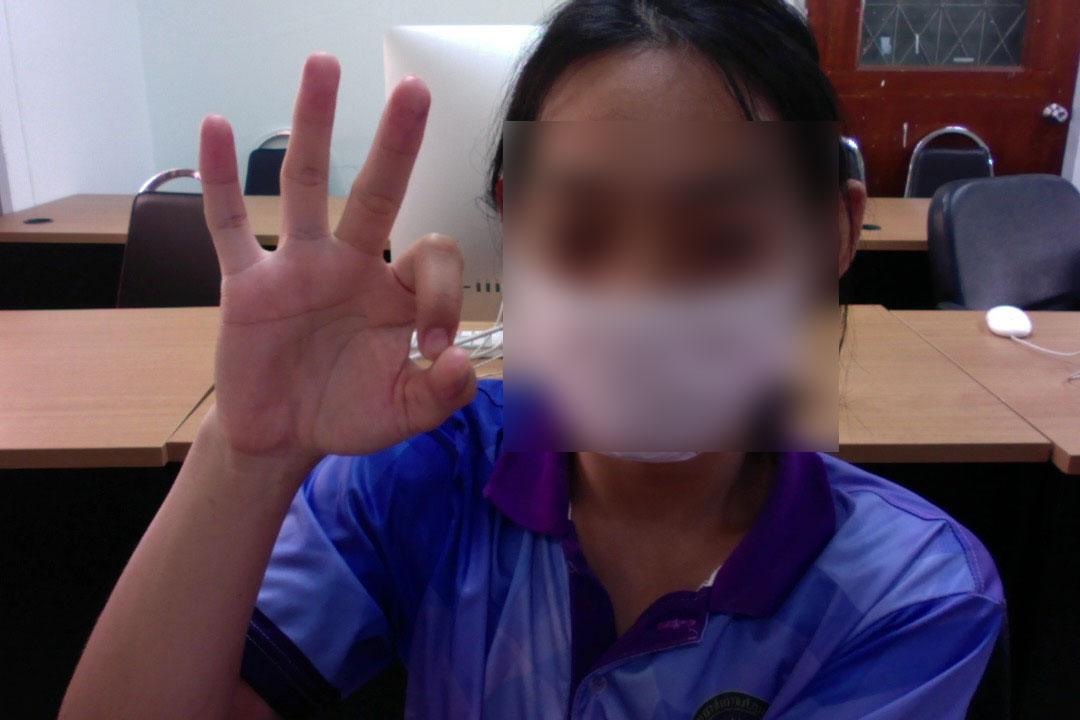for: (185, 44, 485, 483)
